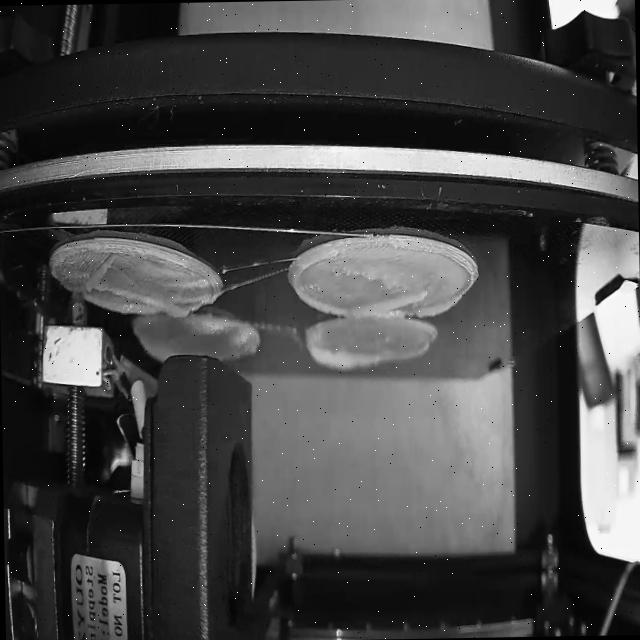over_extrusion: (348, 286, 463, 321), (304, 328, 379, 378), (294, 248, 346, 318), (116, 285, 190, 323), (84, 252, 112, 294)
